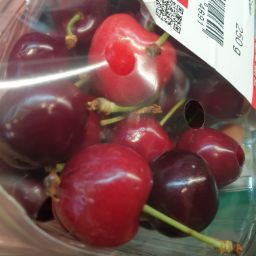Cherry: (30, 133, 162, 243), (148, 124, 250, 234), (69, 17, 180, 117), (2, 76, 94, 185), (16, 4, 96, 93)
